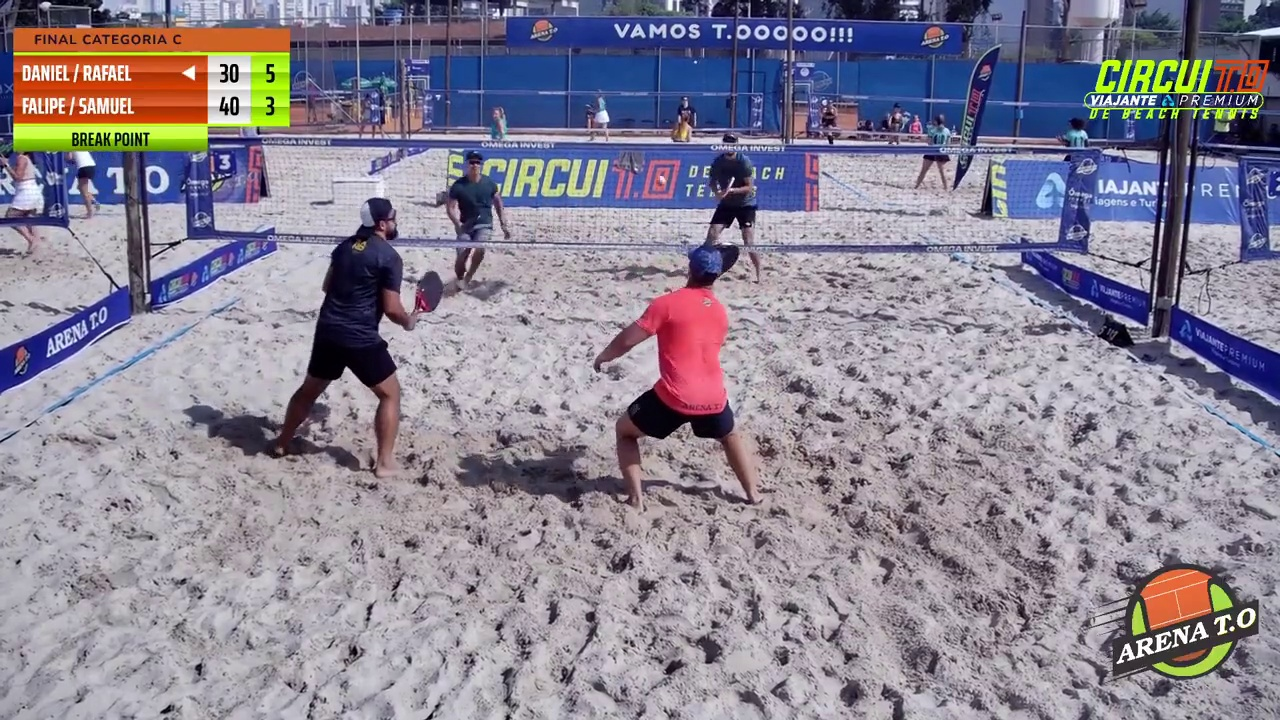court_line: (625, 0, 795, 533), (450, 0, 585, 410), (564, 0, 692, 405)
